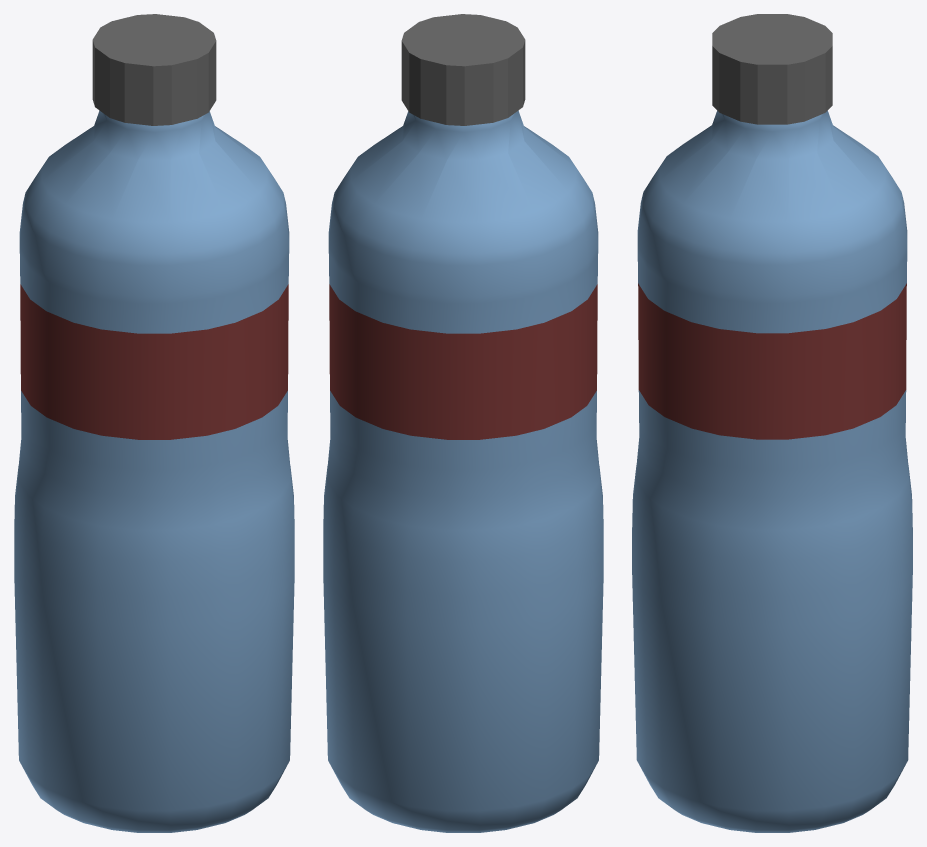
Rendered from WaterBottle.fbx.
3 views of the same model, side by side, from view 1: azimuth 30°, elevation 25°; view 2: azimuth 150°, elevation 25°; view 3: azimuth 270°, elevation 25° (orthographic).
Visible parts, largest first — view 1: WaterBottle; view 2: WaterBottle; view 3: WaterBottle.
Boxes of the visible parts, x1=… form: WaterBottle: x1=14, y1=14, x2=294, y2=832; WaterBottle: x1=323, y1=14, x2=603, y2=832; WaterBottle: x1=632, y1=14, x2=912, y2=832.
Size of the model in its own units: 48.35 by 144 by 48.35.
